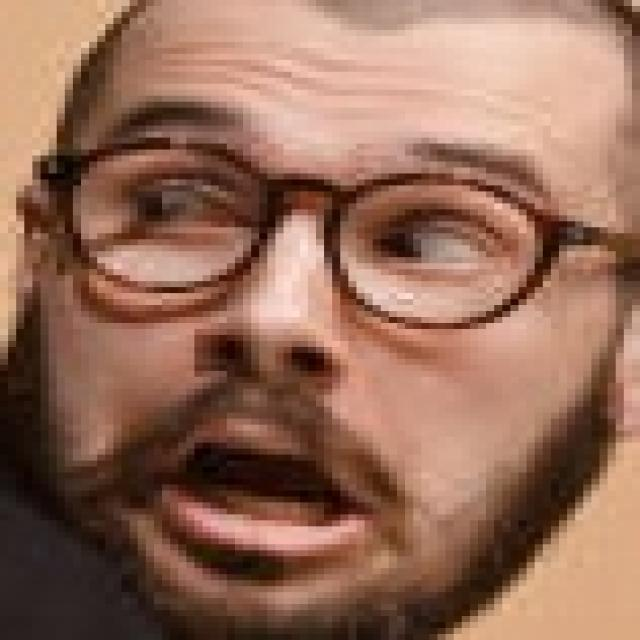Anxiety: (36, 0, 632, 634)
